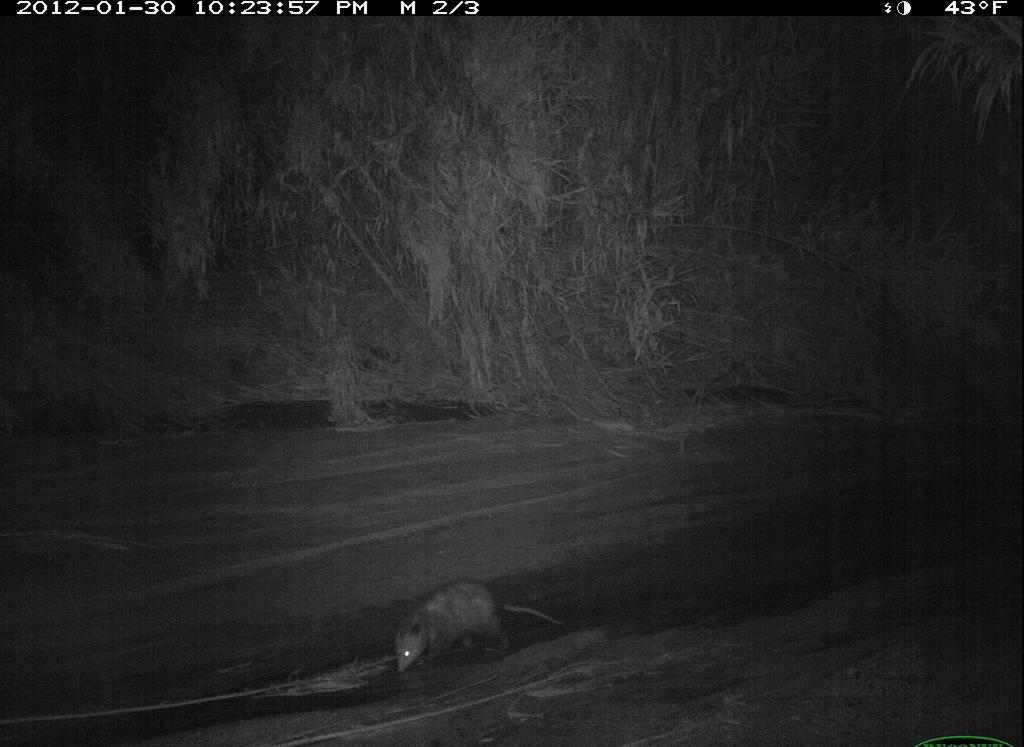opossum: (373, 573, 580, 679)
